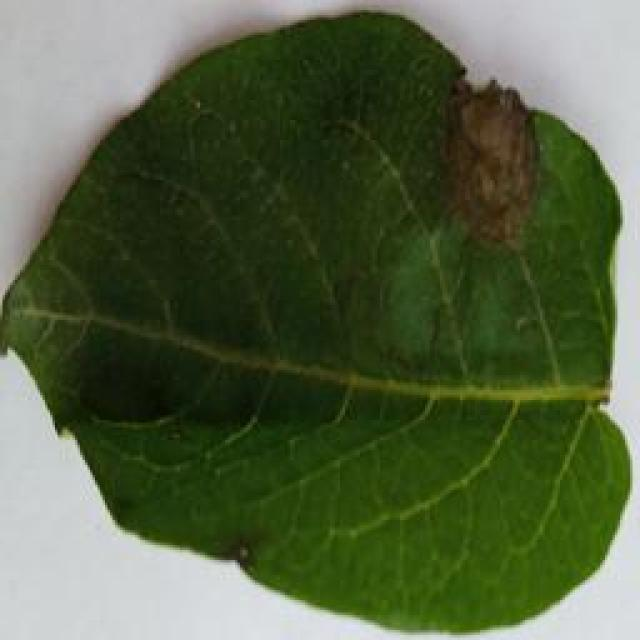Potato_Late_Blight: (5, 6, 640, 634)
